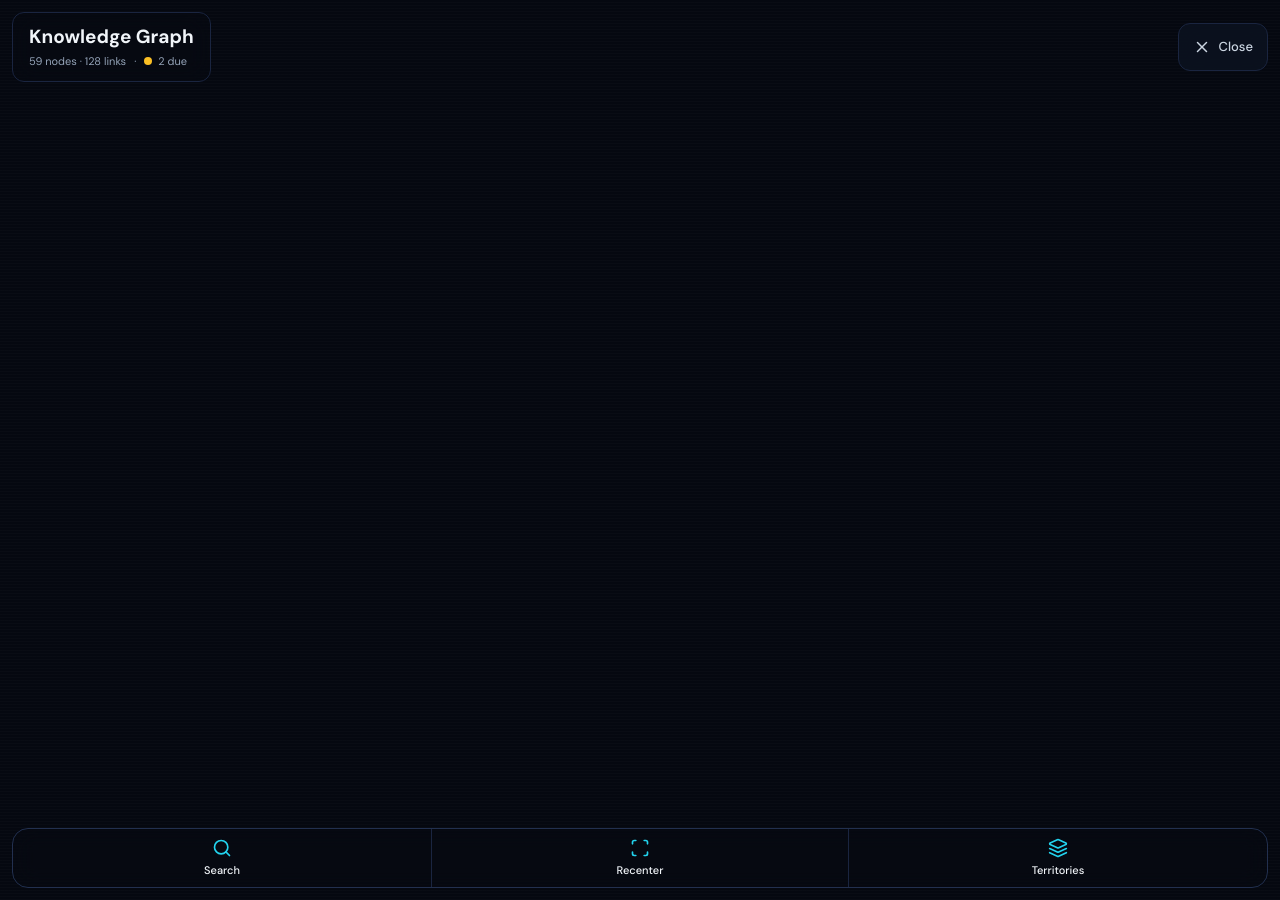
KnowledgeGraph › opens a dismissible mobile detail sheet with collapsed connections
This screenshot has width=1280, height=900.
Click the button "Search" at [222, 858], box 13,829 -> 431,887
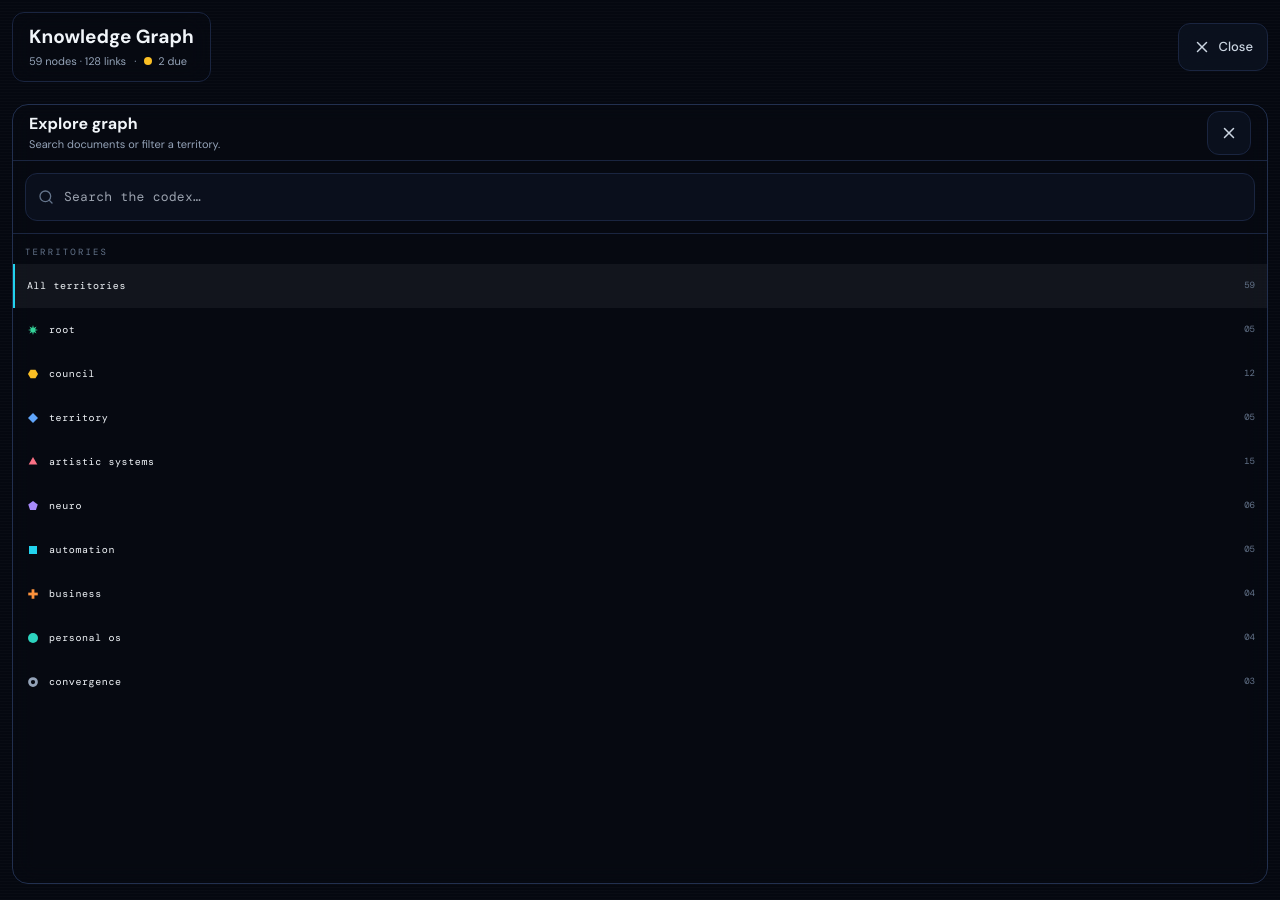
Type "authorship" into the field with placeholder "Search the codex…" at [653, 197], box 64,187 -> 1242,207
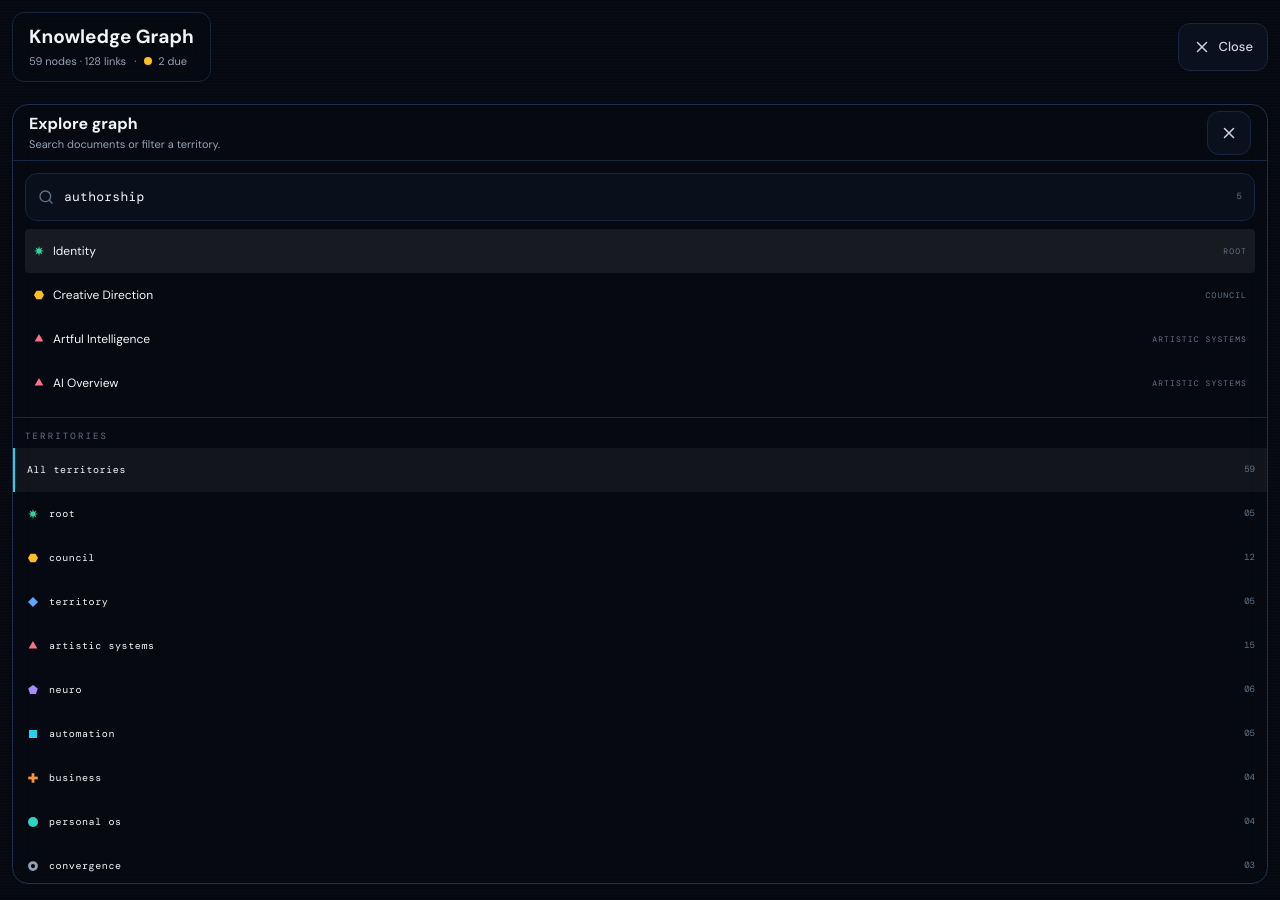
Click the option "Identity root" at [74, 251], box 25,229 -> 1255,273
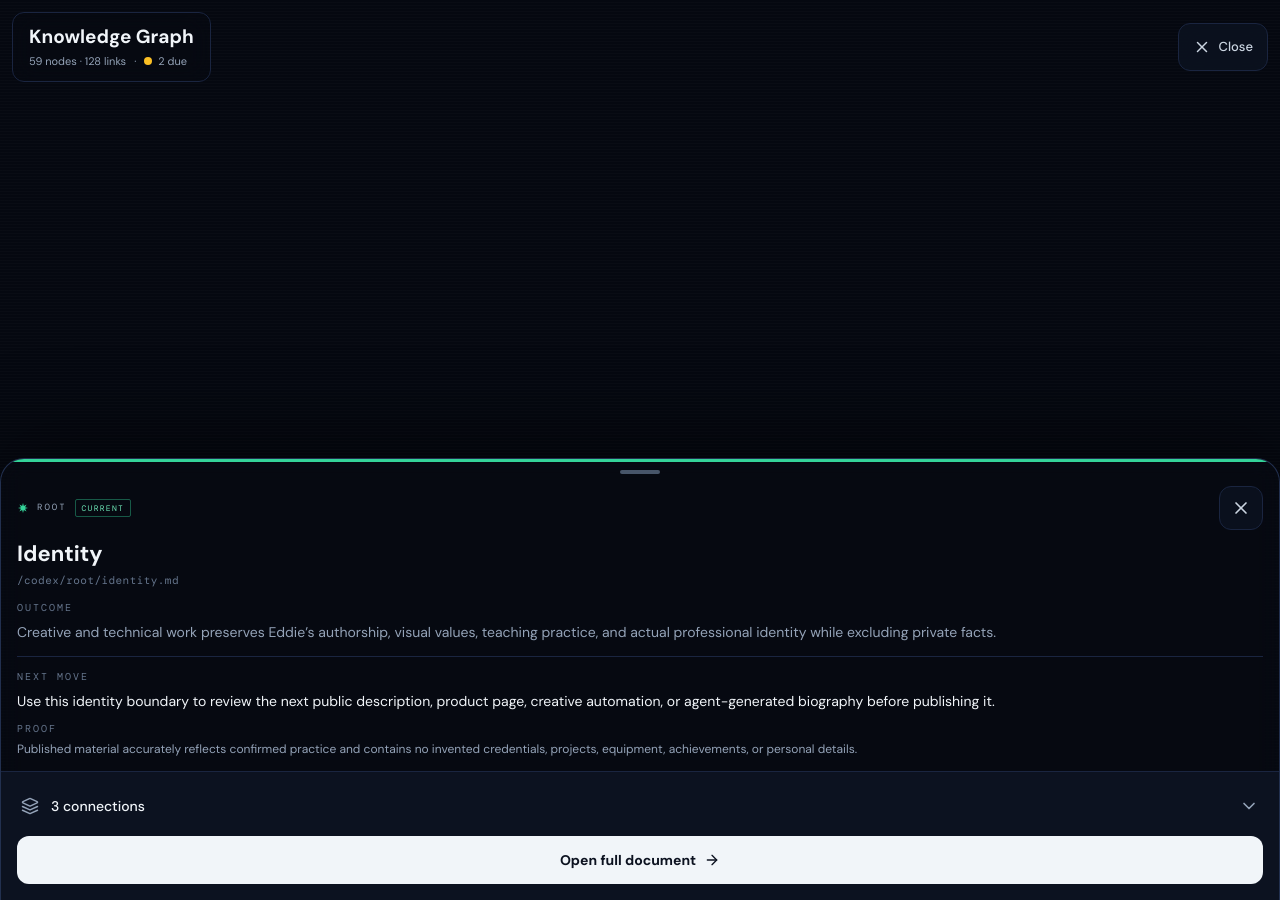
Expected: the dialog named "node details" is shown, 0,458 -> 1279,899
Expected: the heading "Identity" is shown, 17,539 -> 103,568
Expected: the button "Open full document" is shown, 17,836 -> 1263,884
Click the button "3 connections" at [102, 806], box 17,784 -> 1263,828
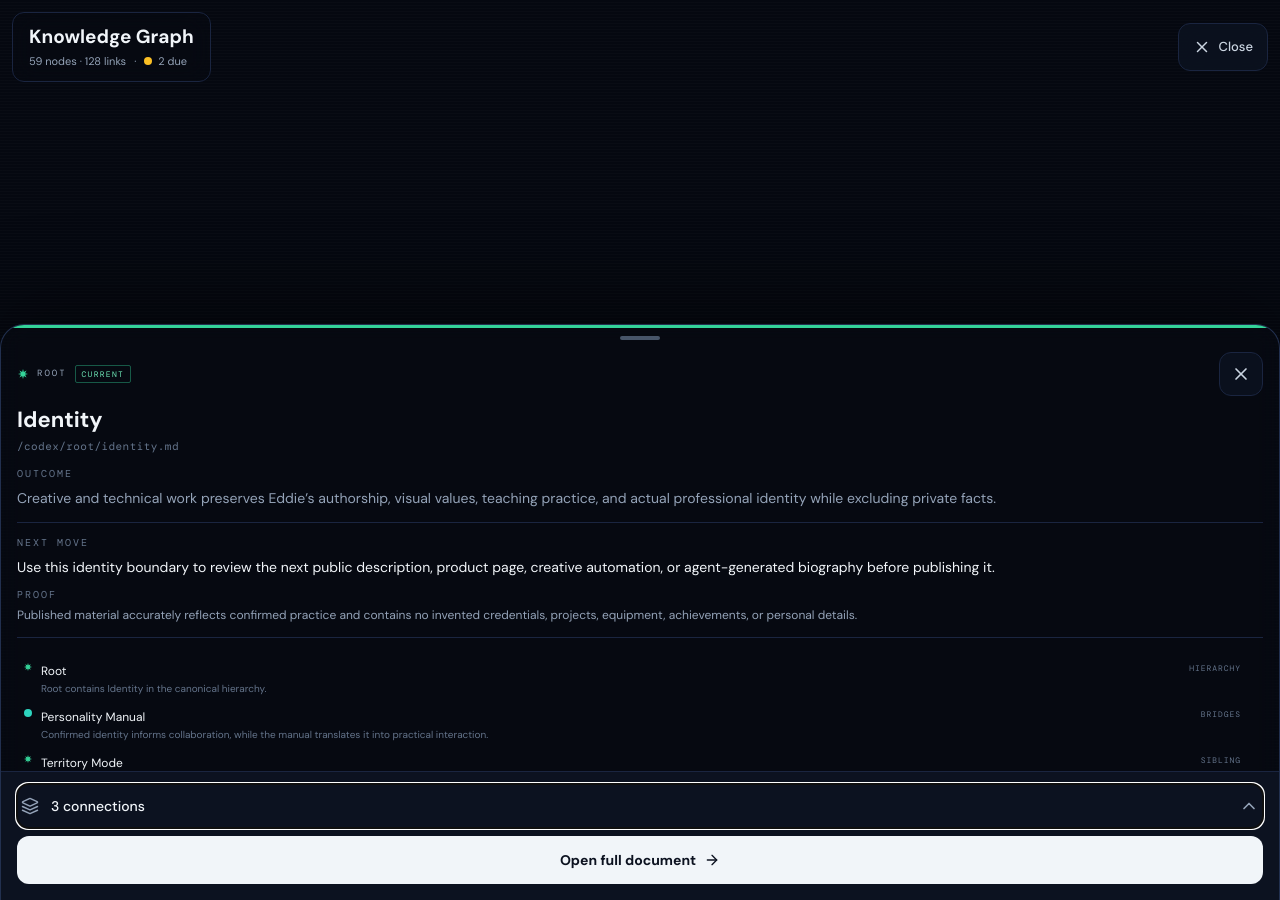
Expected: the button "3 connections" is expanded, 17,784 -> 1263,828
Click the button named "close document details" at [1241, 374], box 1219,352 -> 1263,396
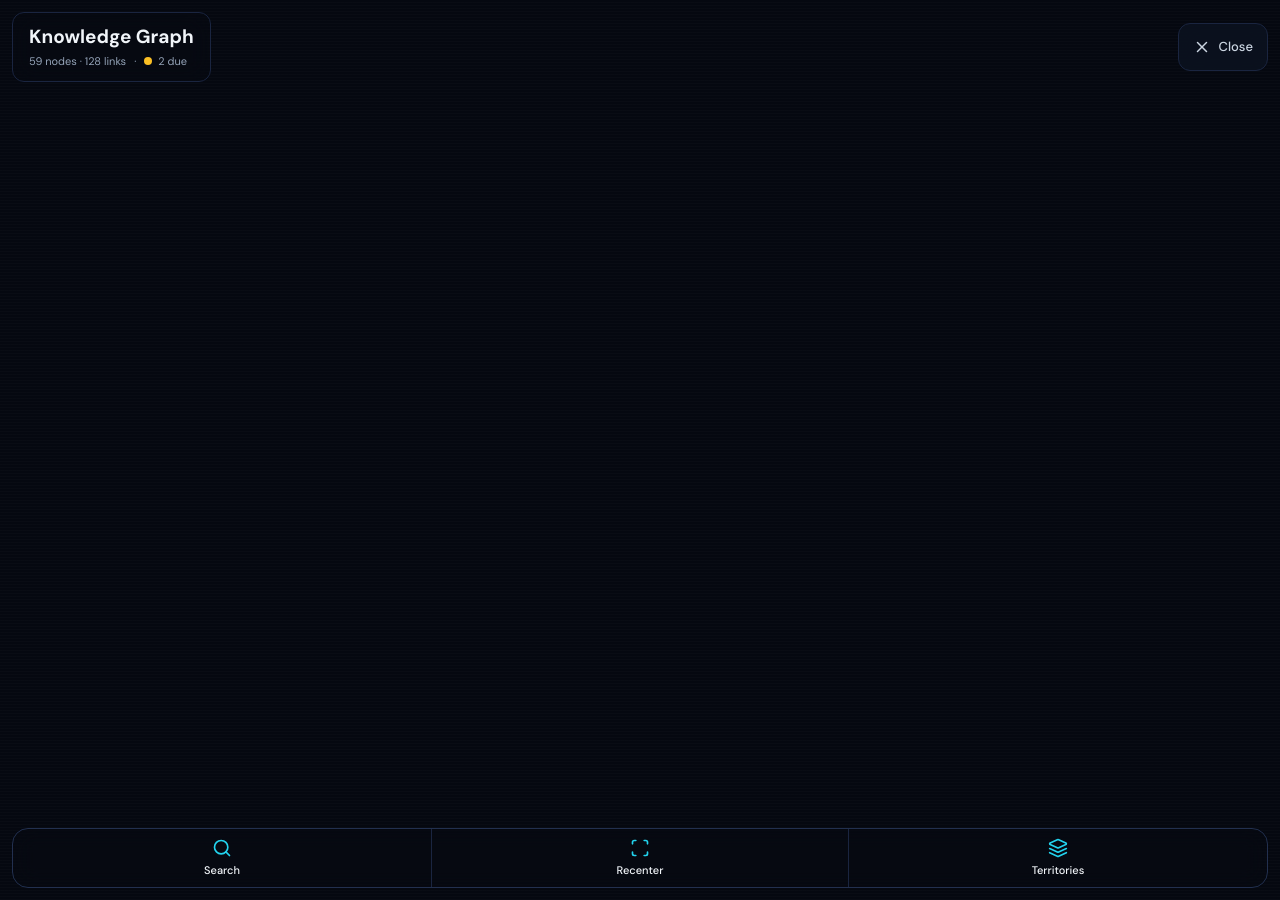
Expected: the navigation bar named "mobile graph controls" is shown, 12,828 -> 1268,888
